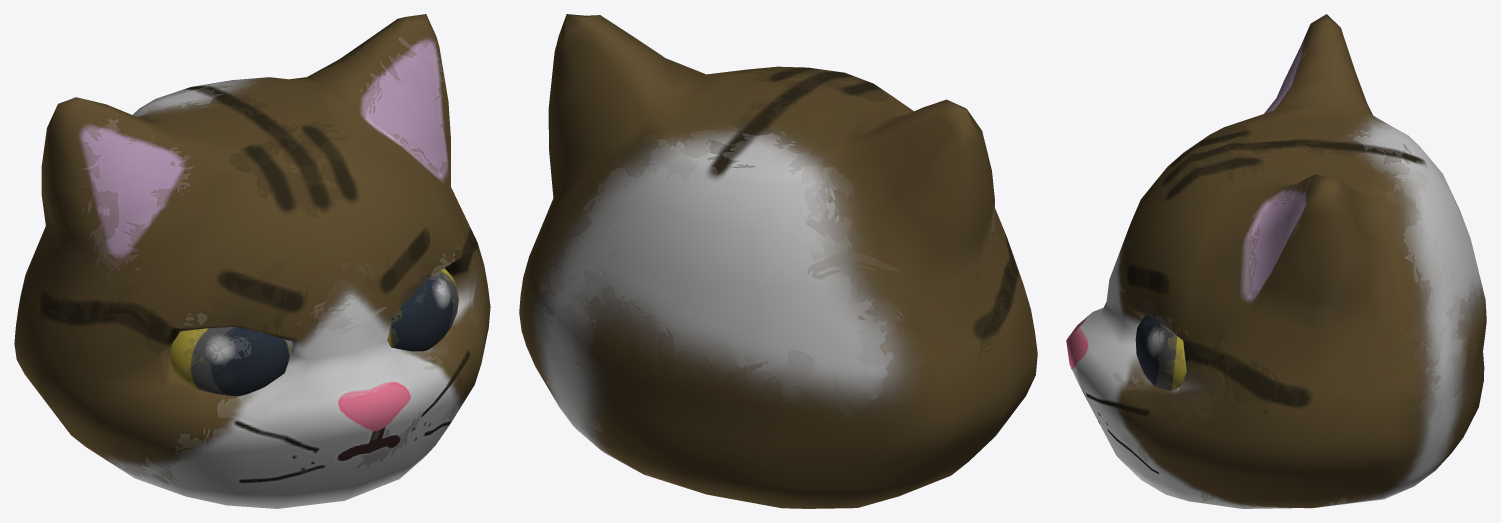
The model's file is Dudong.fbx.
The picture shows the model from 3 angles, left to right: view 1: azimuth 30°, elevation 25°; view 2: azimuth 150°, elevation 25°; view 3: azimuth 270°, elevation 25°; orthographic projection. The views are drawn at different scales.
Visible parts, largest first — view 1: Dudong; view 2: Dudong; view 3: Dudong.
Boxes of the visible parts, x1,y1,x2,y2 form: Dudong: (14, 14, 490, 508); Dudong: (519, 14, 1037, 508); Dudong: (1066, 14, 1486, 508).
Bounding box in the file's own units: 116 × 99.97 × 104.
